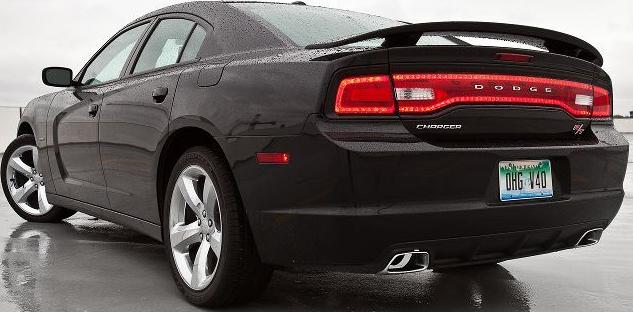back_view: (283, 20, 630, 269)
backlight: (320, 55, 633, 141)
side_glass: (60, 20, 246, 77)
